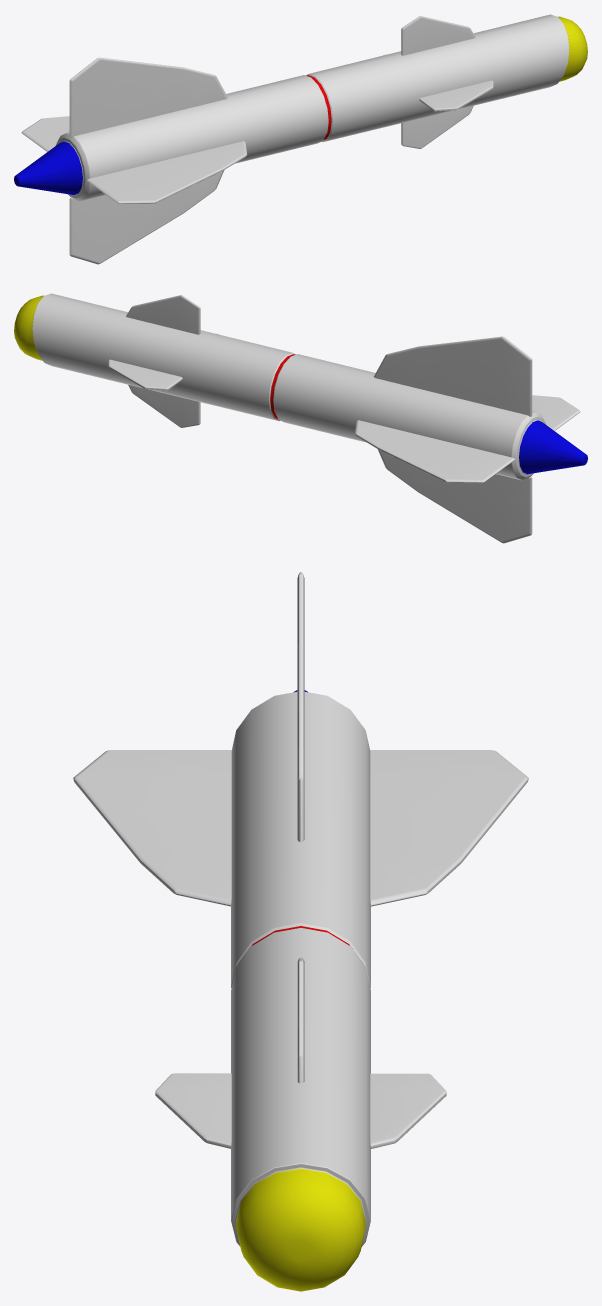
File: SM_ATGM.fbx
3 views of the same model, one above another, from view 1: azimuth 30°, elevation 25°; view 2: azimuth 150°, elevation 25°; view 3: azimuth 270°, elevation 25° (orthographic). The views are drawn at different scales.
Parts seen in each view (by area): view 1: MisileBase, MisileFins; view 2: MisileBase, MisileFins; view 3: MisileBase, MisileFins.
Boxes of the visible parts, left/top/right/bottom form: MisileBase: left=14, top=14, right=587, bottom=201; MisileFins: left=21, top=16, right=493, bottom=264; MisileBase: left=14, top=293, right=587, bottom=480; MisileFins: left=108, top=295, right=580, bottom=543; MisileBase: left=231, top=690, right=370, bottom=1291; MisileFins: left=73, top=572, right=528, bottom=1148.
Size of the model in its own units: 183 by 63.9 by 63.9.
